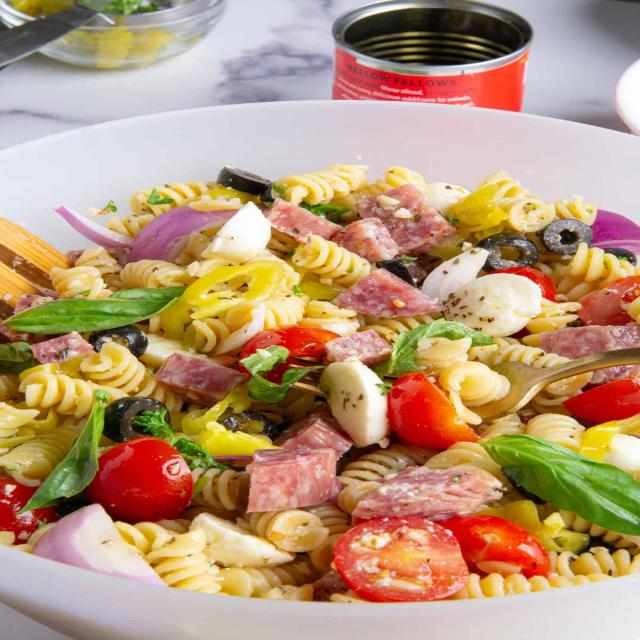pasta: (274, 162, 366, 202)
